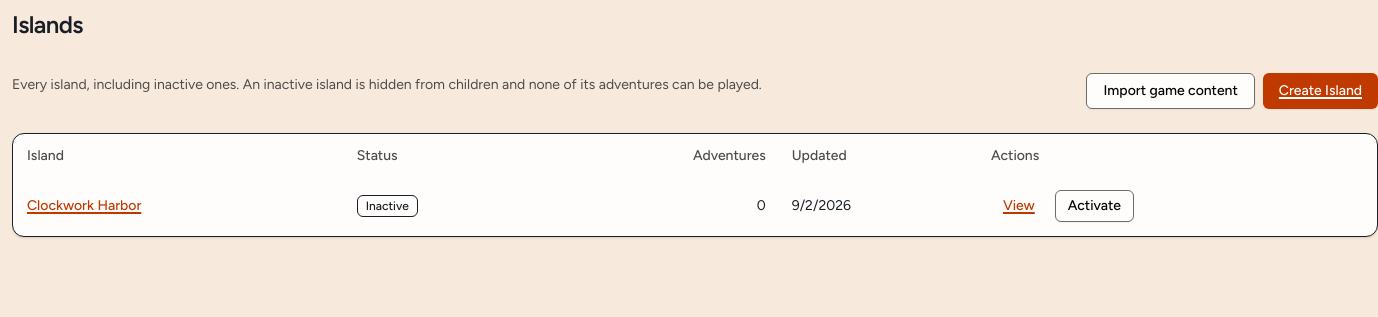
Test case: AdminIslands › activates an inactive island
Click the button with aria-label "Activate Clockwork Harbor" at [1094, 206], box [1055,190,1134,222]
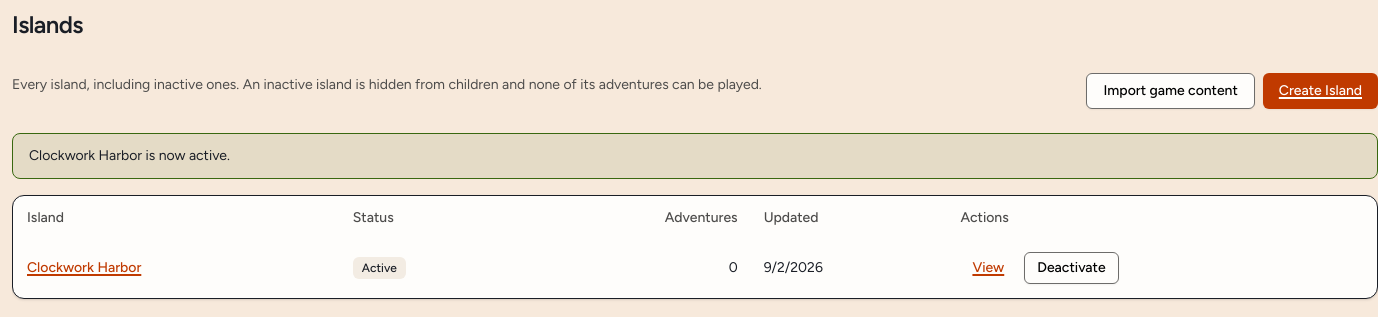
Expected: the message reads "Clockwork Harbor is now active.", [29,147,230,164]
